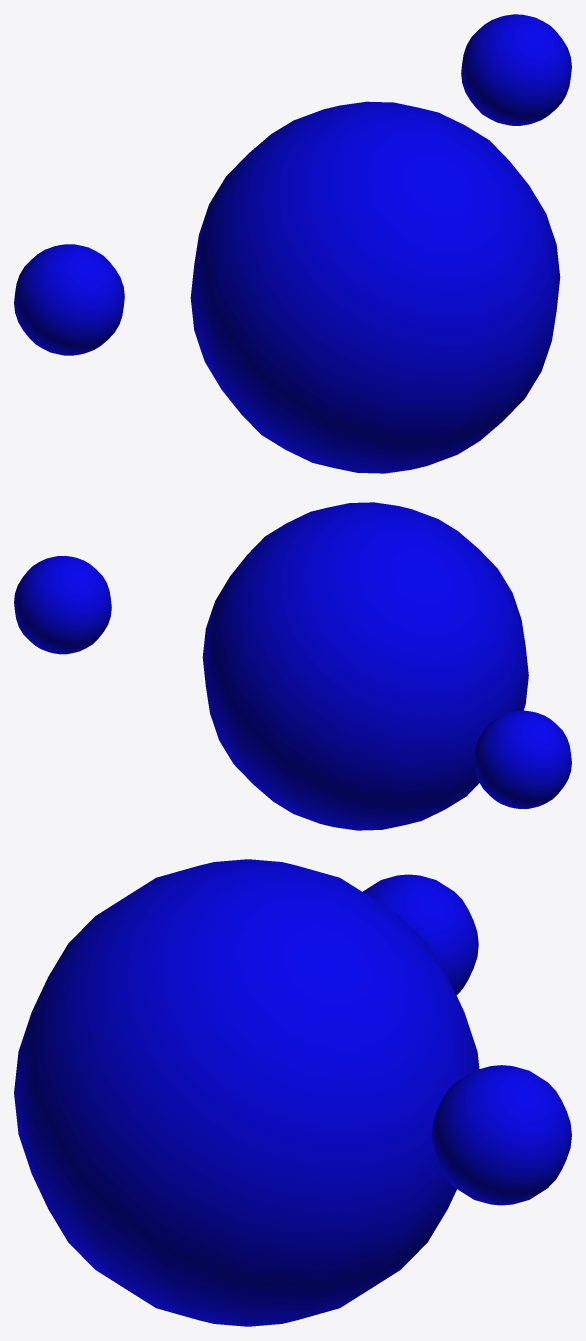
Rendered from actor_def_inf.fbx.
3 views of the same model, one above another, from view 1: azimuth 30°, elevation 25°; view 2: azimuth 150°, elevation 25°; view 3: azimuth 270°, elevation 25° (orthographic). The views are drawn at different scales.
Parts seen in each view (by area): view 1: Sphere, Sphere.001, Sphere.002; view 2: Sphere, Sphere.001, Sphere.002; view 3: Sphere, Sphere.001, Sphere.002.
Boxes of the visible parts, box(x1,y1,x2,y2) form: Sphere: box(190, 101, 560, 473); Sphere.001: box(461, 14, 571, 125); Sphere.002: box(14, 244, 124, 355); Sphere: box(202, 502, 528, 830); Sphere.001: box(14, 555, 111, 654); Sphere.002: box(474, 710, 571, 808); Sphere: box(14, 859, 479, 1326); Sphere.001: box(431, 1065, 571, 1205); Sphere.002: box(363, 874, 478, 995).
Size of the model in its own units: 3.6 by 2 by 2.38.
